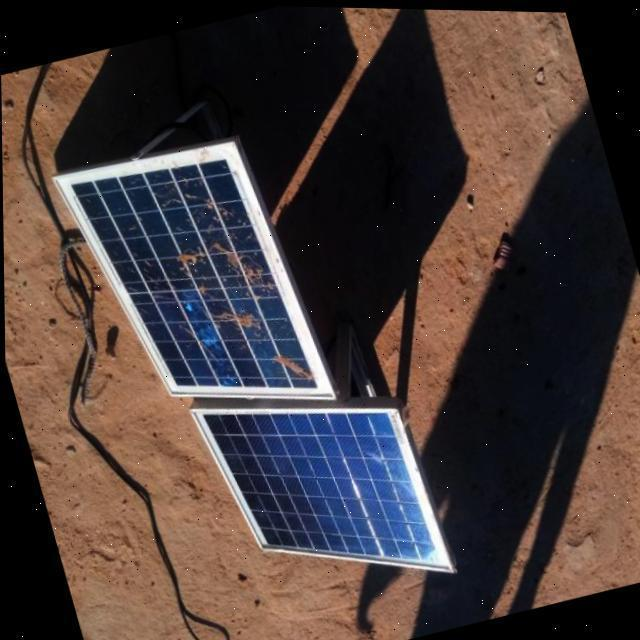Normal Solar Panel: (188, 357, 452, 625)
